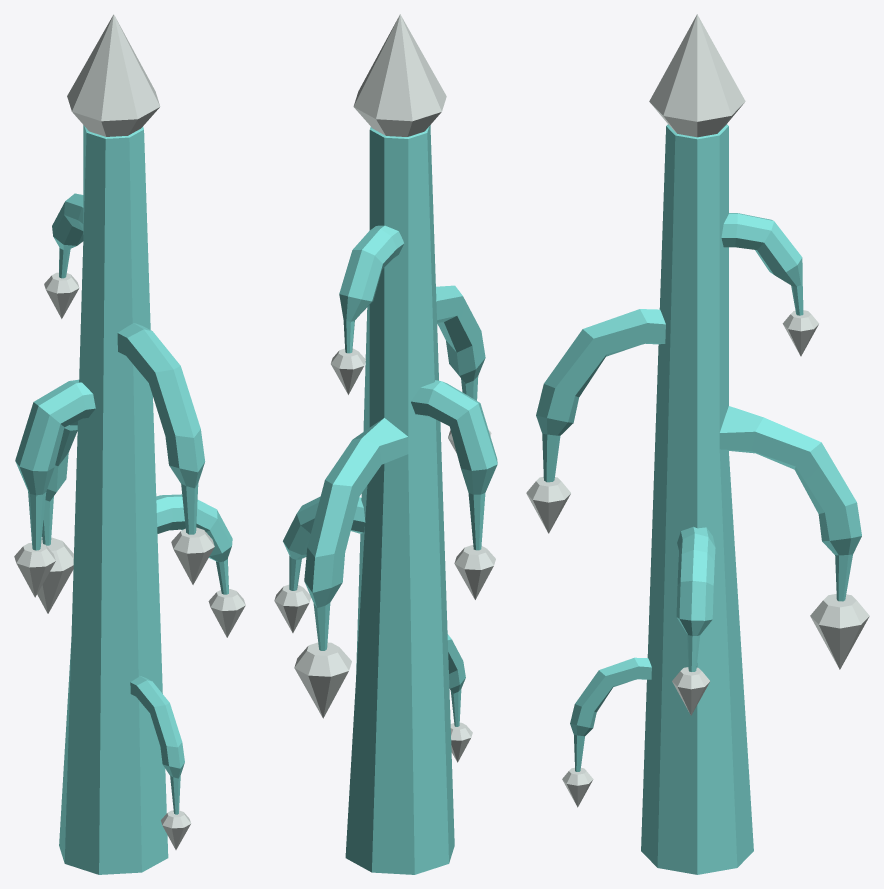
The model's file is plant02.fbx.
The picture shows the model from 3 angles, left to right: view 1: azimuth 30°, elevation 25°; view 2: azimuth 150°, elevation 25°; view 3: azimuth 270°, elevation 25°; orthographic projection.
Visible parts, largest first — view 1: plant02; view 2: plant02; view 3: plant02.
Part boxes in pixels (x1,y1,x2,y2): plant02: [14, 14, 245, 874]; plant02: [274, 14, 497, 874]; plant02: [526, 14, 869, 874].
Size of the model in its own units: 0.4417 by 0.5905 by 1.59.
